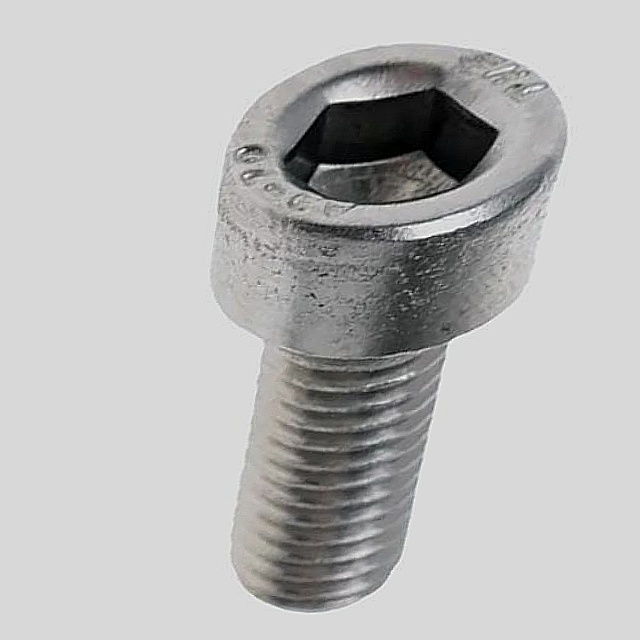allen: (273, 79, 519, 208)
